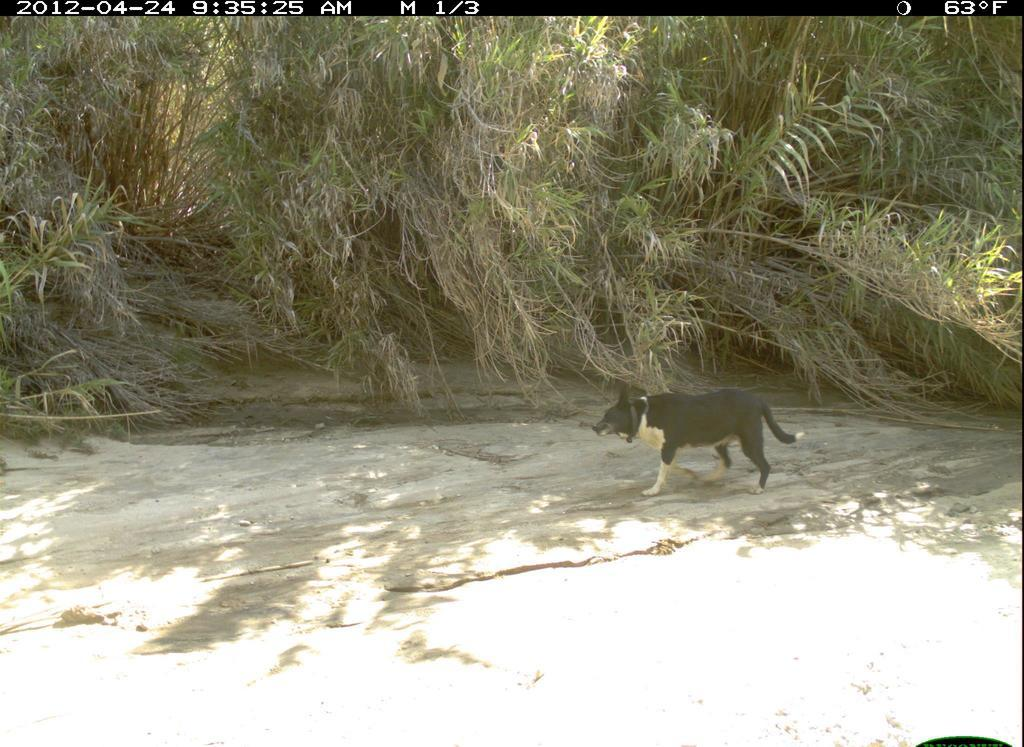dog: (587, 385, 808, 504)
